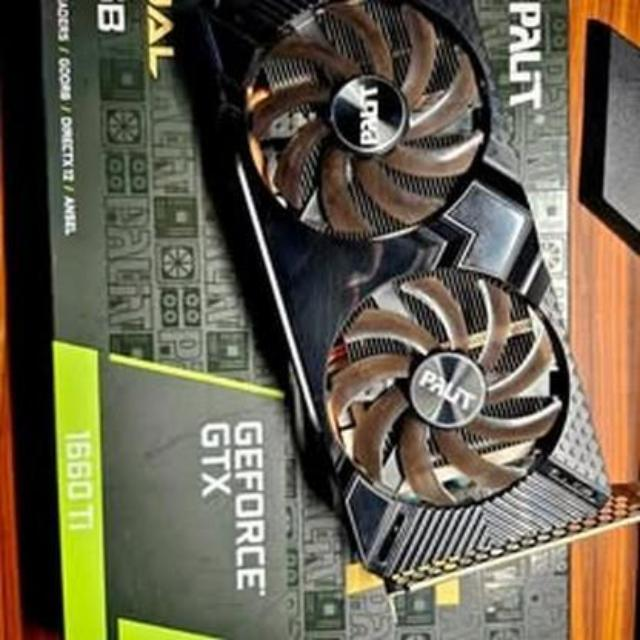GPU: (178, 0, 624, 574)
